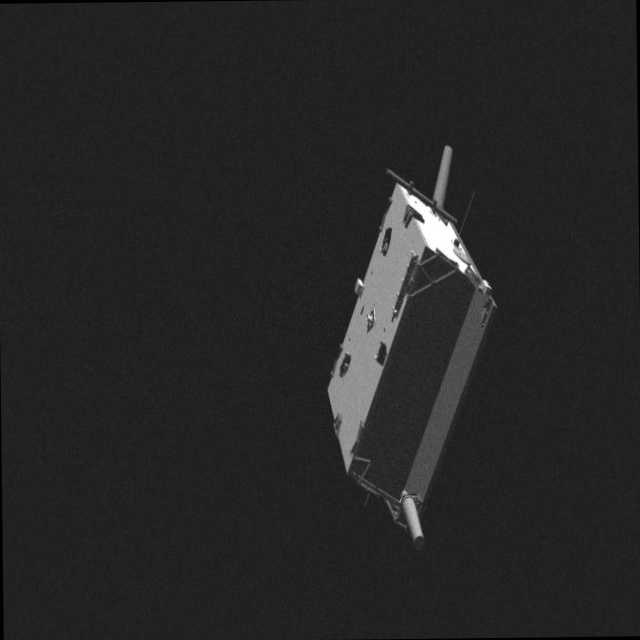medium_debris: (312, 136, 501, 546)
